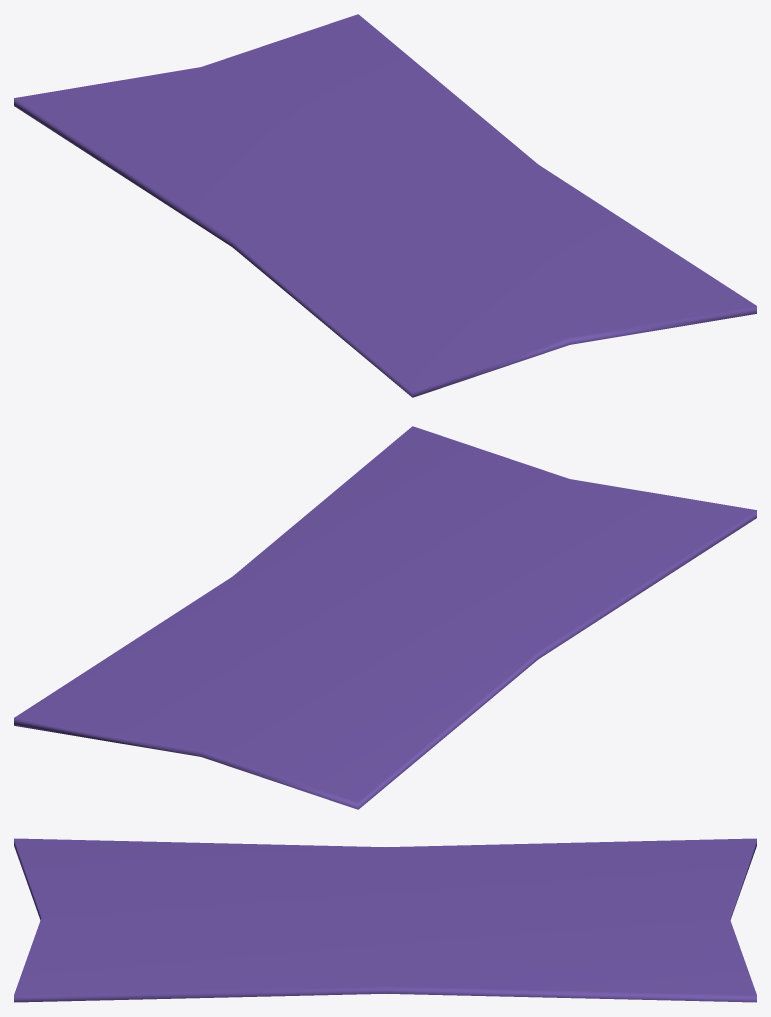
Rendered from SM_Rug.fbx.
3 renders of one model, top to bottom at view 1: azimuth 30°, elevation 25°; view 2: azimuth 150°, elevation 25°; view 3: azimuth 270°, elevation 25°, orthographic. The views are drawn at different scales.
Parts seen in each view (by area): view 1: SM_Rug; view 2: SM_Rug; view 3: SM_Rug.
Boxes of the visible parts, bbox=[...] form: SM_Rug: bbox=[14, 14, 756, 397]; SM_Rug: bbox=[14, 426, 756, 809]; SM_Rug: bbox=[14, 838, 756, 1002].
Size of the model in its own units: 145 by 3.19 by 290.
